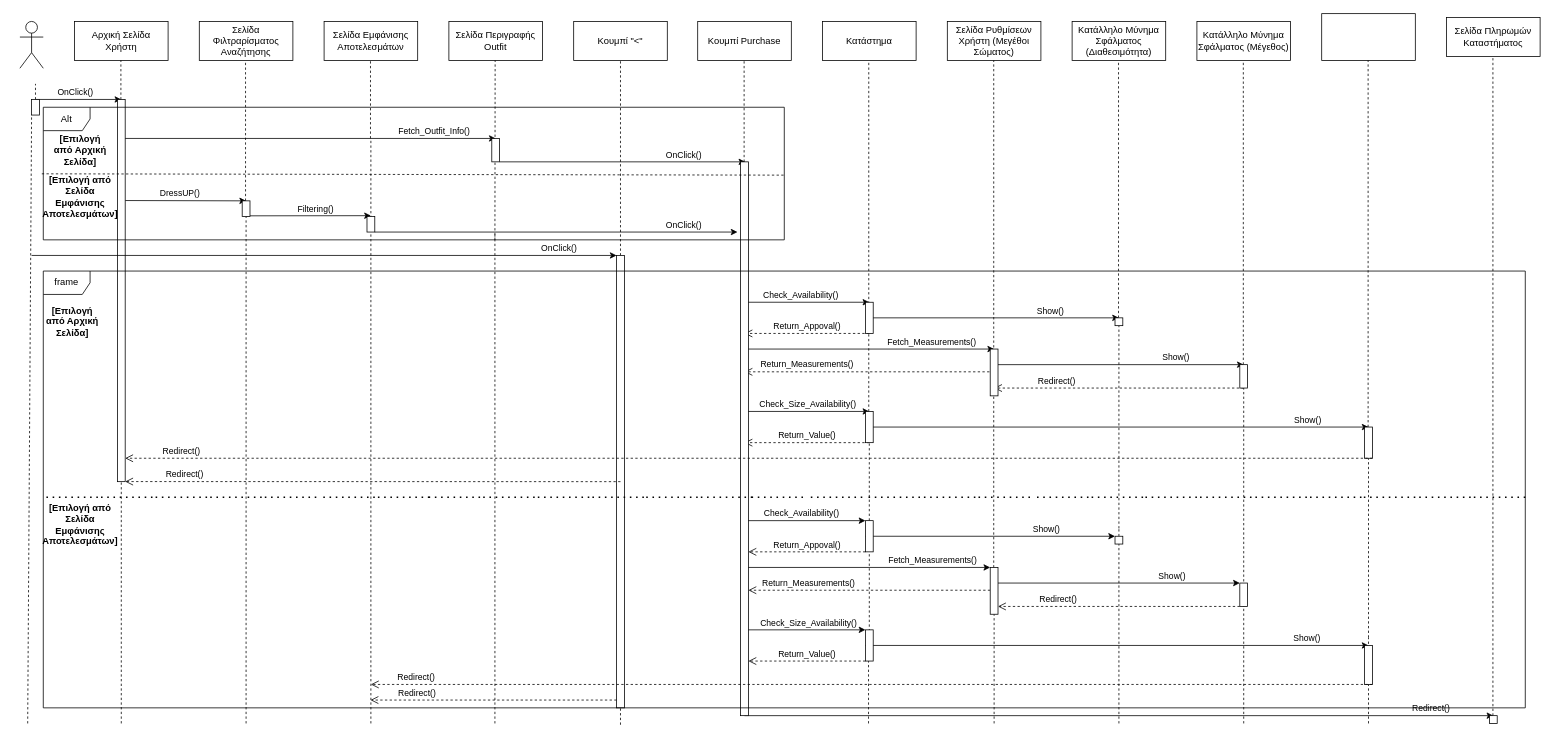
Image size: 1554x739. Some labels were removed from this diagram. Each missing label, with the centre of its shape:
"Κατάλληλο Μύνημα Σφάλματος (Μη Διαθεσιμότητα Μεγέθους)" belongs at (1368,36).
"Χρήστης" belongs at (31,44).
